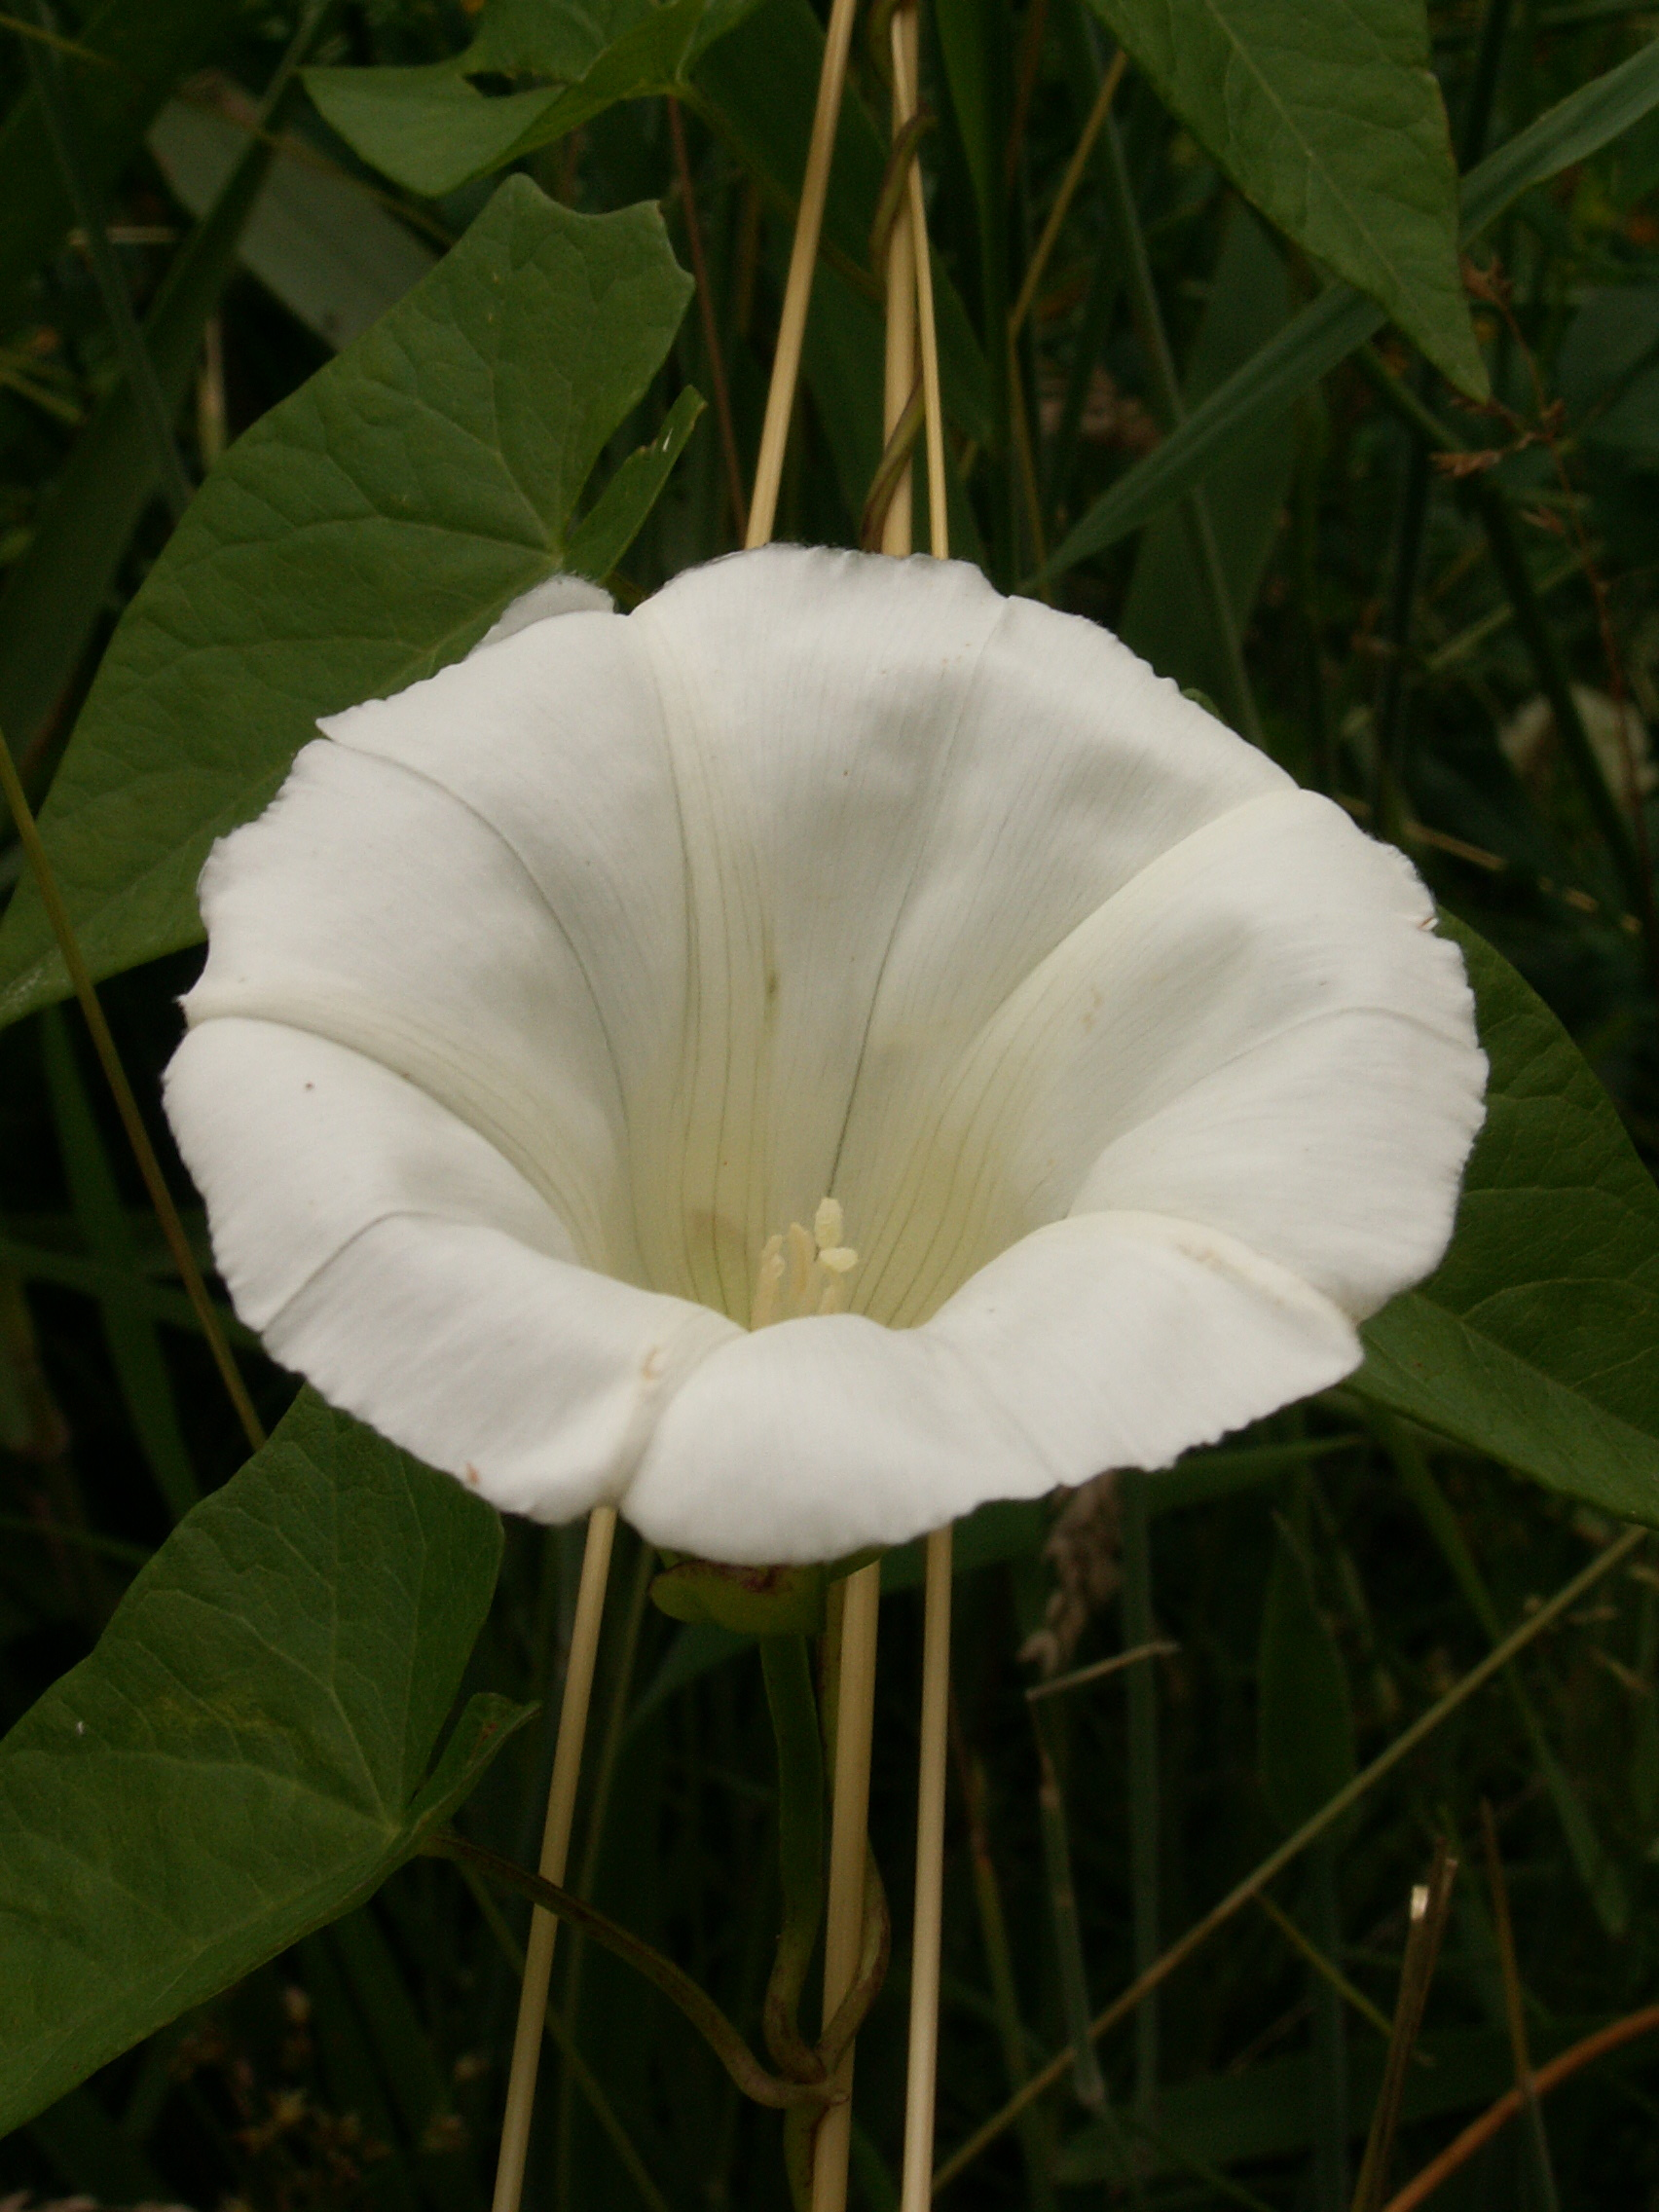haagwinde: (110, 428, 1556, 1646), (10, 1367, 549, 2139)
